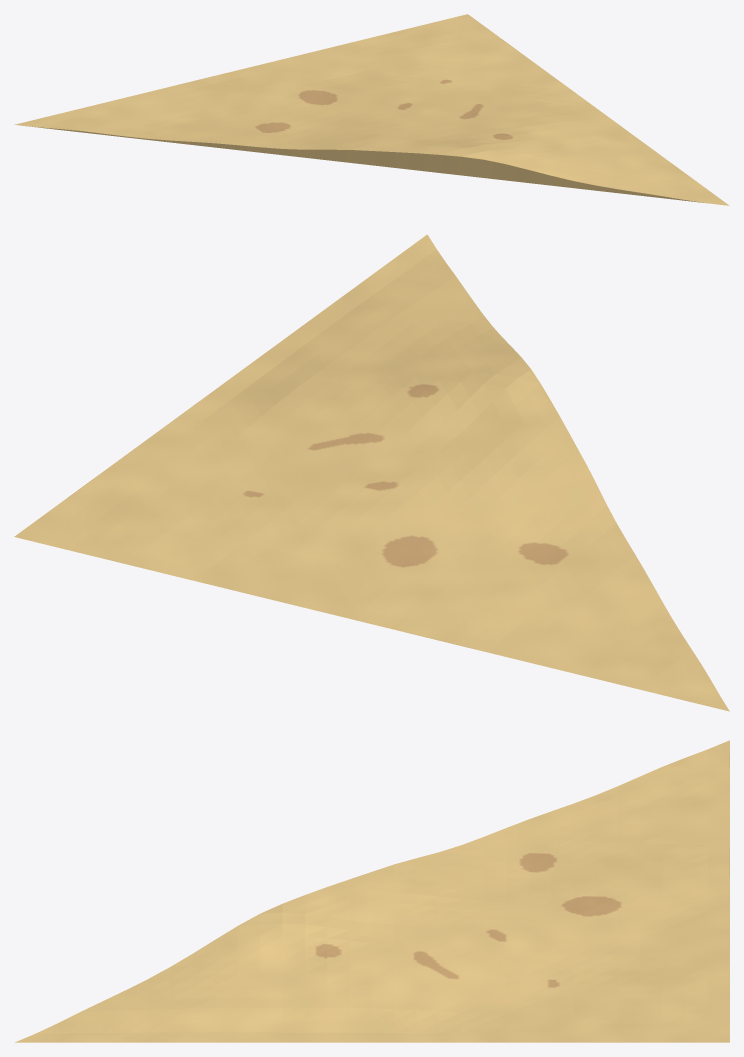
The model's file is Desert_Flat_10_SE.obj.
3 views of the same model, one above another, from view 1: azimuth 30°, elevation 25°; view 2: azimuth 150°, elevation 25°; view 3: azimuth 270°, elevation 25° (orthographic). The views are drawn at different scales.
Size of the model in its own units: 10 by 0.4014 by 10.
1 material, 1 textured.
